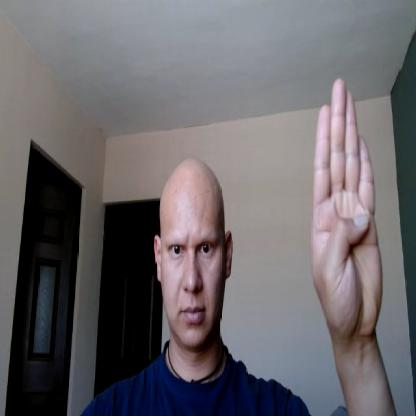B: (311, 79, 383, 335)
